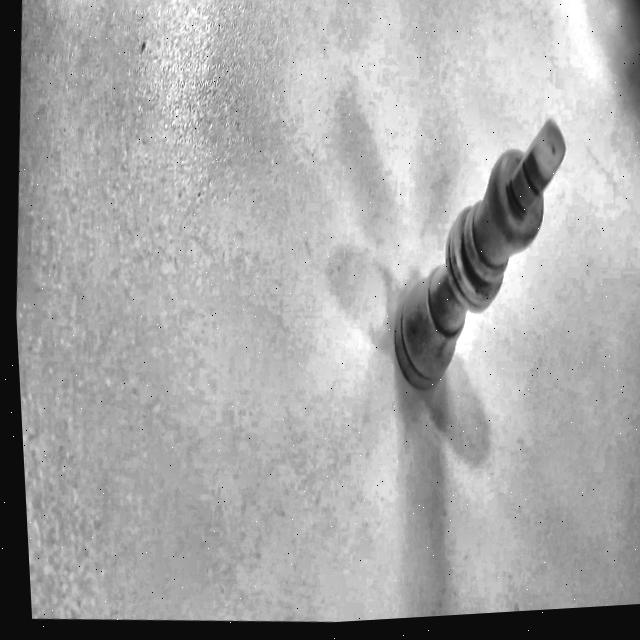white-king: (394, 121, 564, 392)
